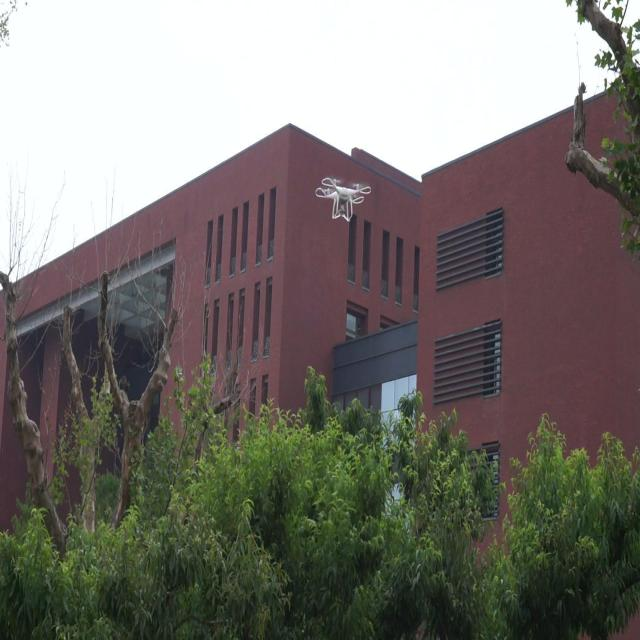drone: (313, 174, 372, 226)
